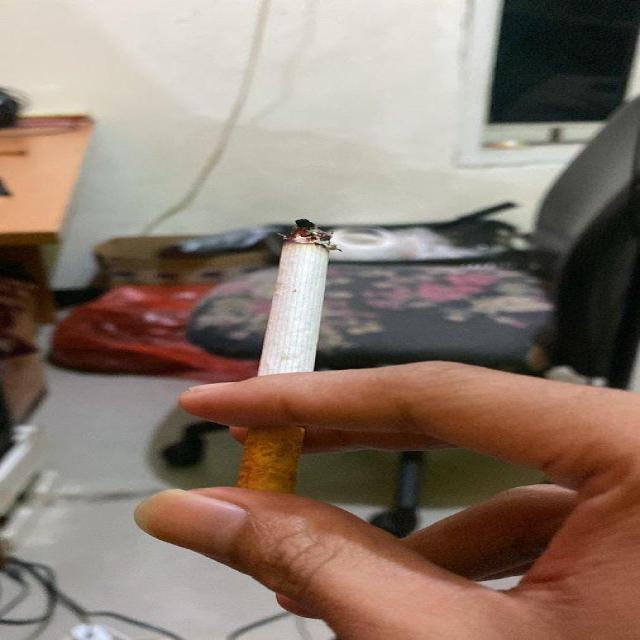rokok: (232, 217, 374, 501)
